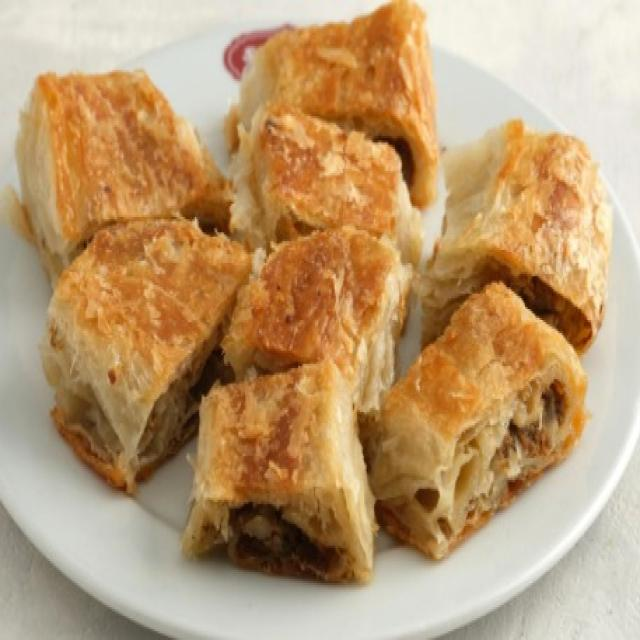yan_yemek: (7, 0, 613, 585)
